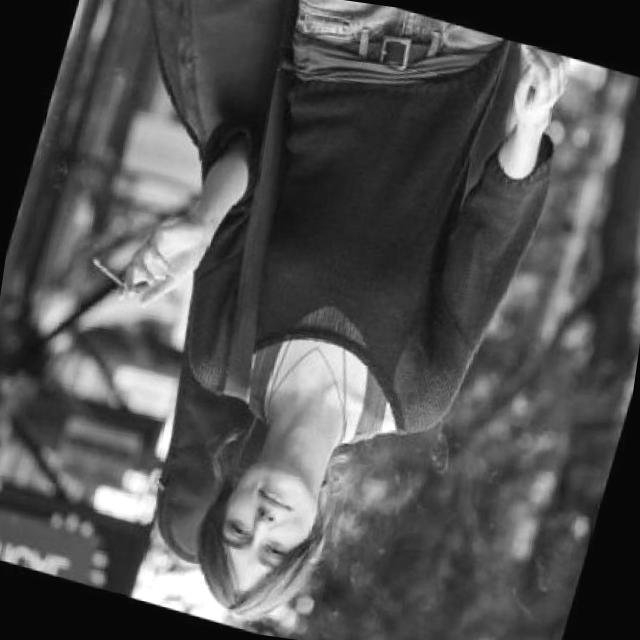smoke: (83, 254, 148, 300)
